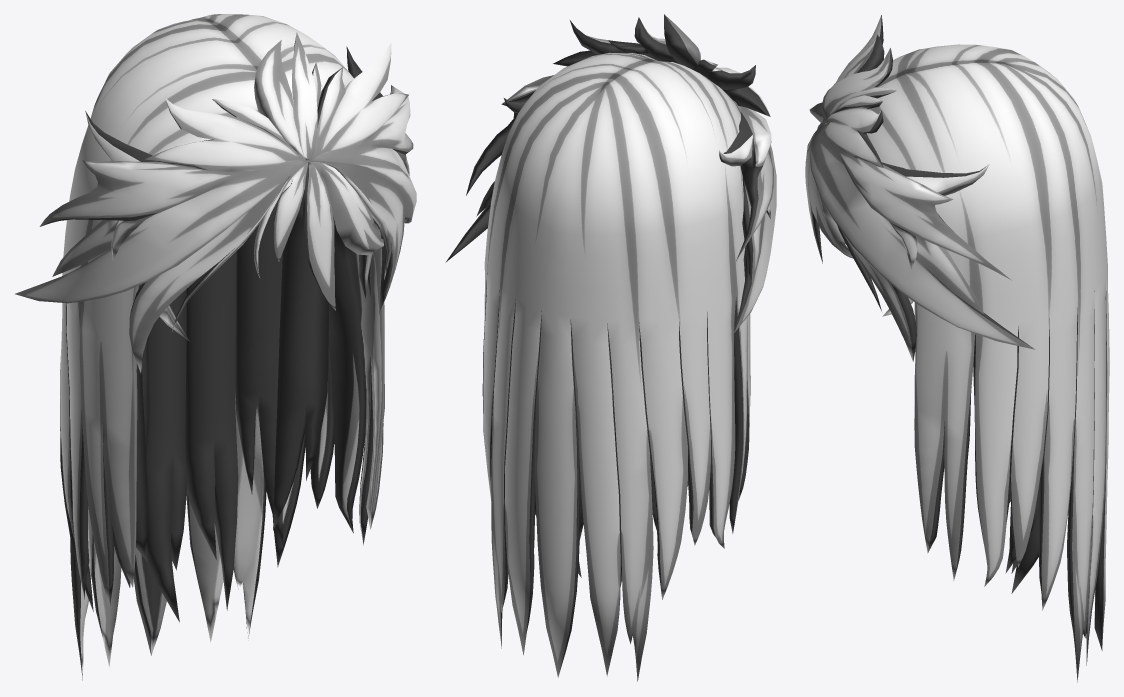
File: kohaku_hair.fbx
3 renders of one model, left to right at view 1: azimuth 30°, elevation 25°; view 2: azimuth 150°, elevation 25°; view 3: azimuth 270°, elevation 25°, orthographic. The views are drawn at different scales.
Visible parts, largest first — view 1: hairBack, hairFront, hairUnder, hairSide; view 2: hairBack, hairFront, hairUnder; view 3: hairBack, hairFront, hairUnder.
Boxes of the visible parts, x1,y1,x2,y2 form: hairBack: [60, 14, 384, 680]; hairFront: [15, 32, 416, 373]; hairUnder: [112, 192, 355, 622]; hairSide: [140, 222, 378, 341]; hairBack: [482, 52, 750, 681]; hairFront: [445, 14, 776, 332]; hairUnder: [535, 322, 688, 587]; hairBack: [866, 44, 1109, 682]; hairFront: [805, 15, 1034, 361]; hairUnder: [1005, 480, 1039, 593].
Size of the model in its own units: 24.04 by 46.59 by 20.84.
